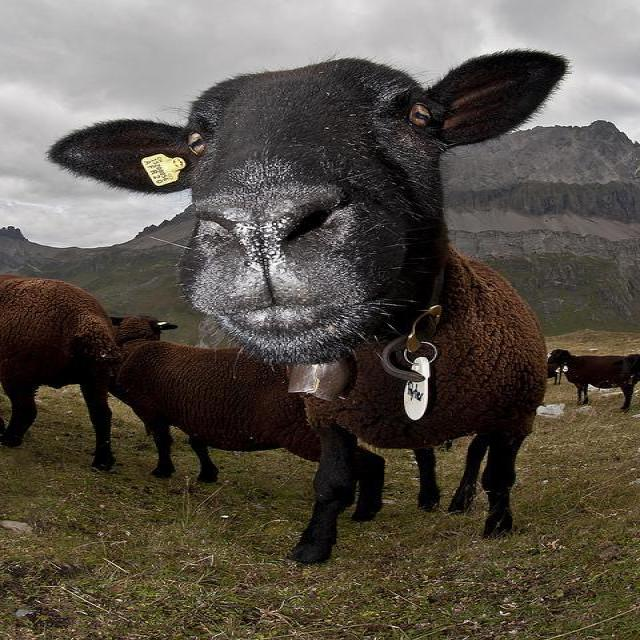Sheep: (48, 48, 575, 568), (106, 320, 322, 476), (4, 273, 124, 471), (548, 347, 639, 412)
